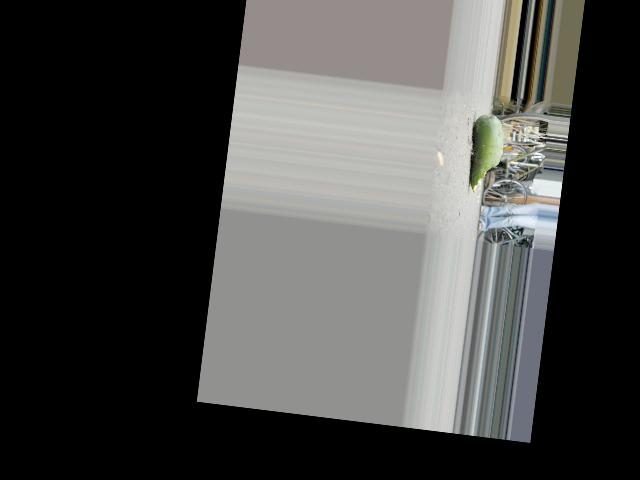cucumber: (466, 113, 506, 196)
